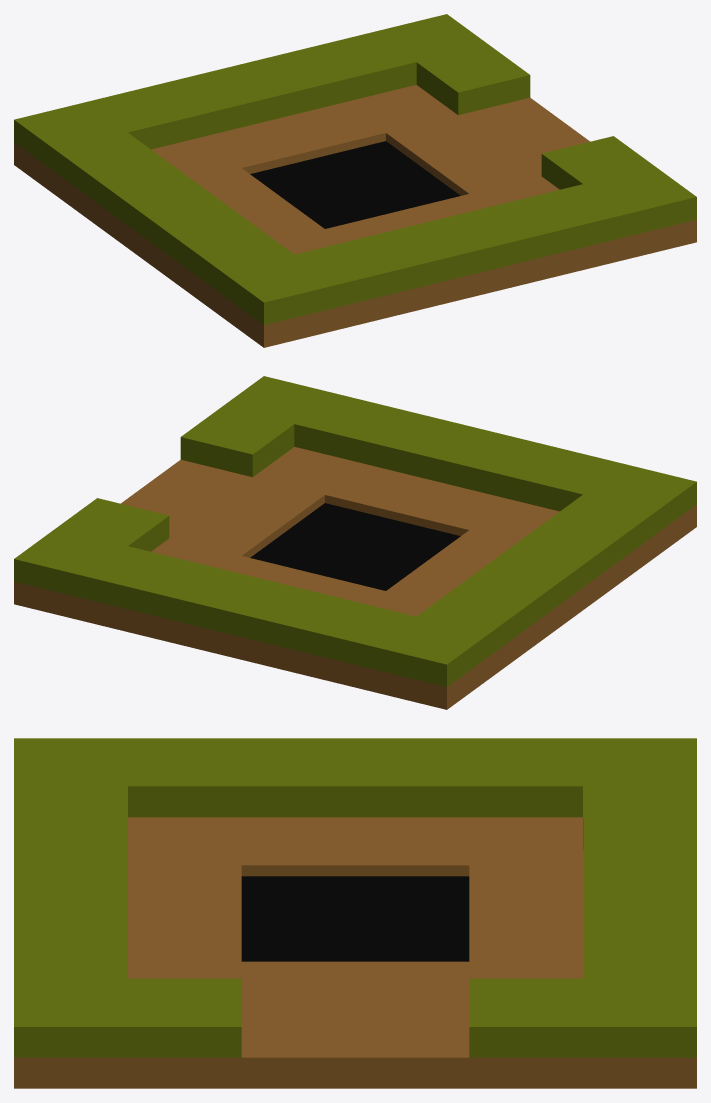
Rendered from ForestEnd.fbx.
3 views of the same model, one above another, from view 1: azimuth 30°, elevation 25°; view 2: azimuth 150°, elevation 25°; view 3: azimuth 270°, elevation 25° (orthographic). The views are drawn at different scales.
Visible parts, largest first — view 1: ForestEnd; view 2: ForestEnd; view 3: ForestEnd.
Boxes of the visible parts, left/top/right/bottom form: ForestEnd: left=14, top=14, right=696, bottom=347; ForestEnd: left=14, top=376, right=696, bottom=709; ForestEnd: left=14, top=738, right=696, bottom=1088.
Size of the model in its own units: 100 by 10 by 100.
